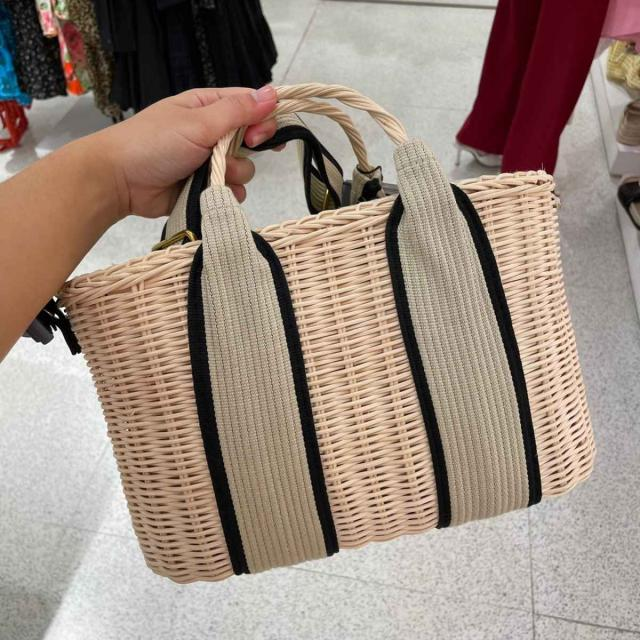Handbag: (58, 129, 603, 606)
